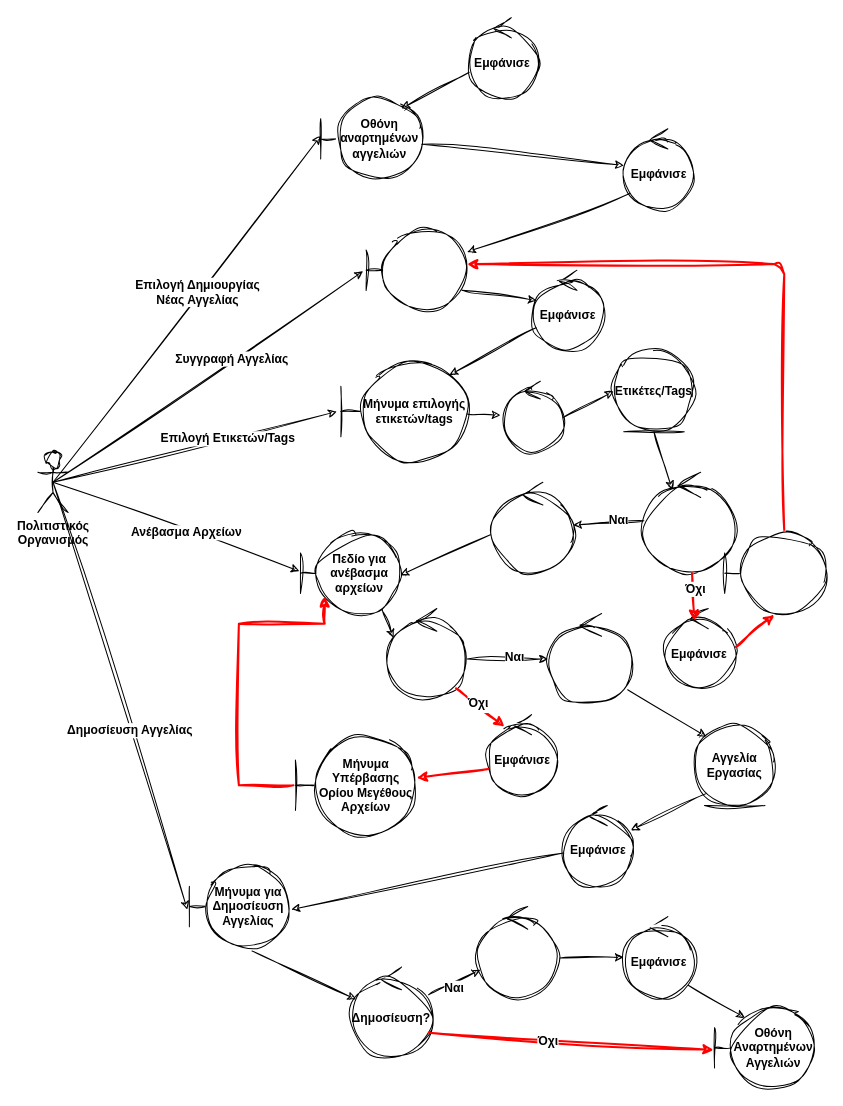
This 843x1106 diagram has some shape labels left out. The shapes that lost their labels are listed below. From the top down, each one's box as (x1, y1, x2, y2) in pixels, then its label:
(365, 229, 467, 311): Οθόνη συμπλήρωσης στοιχείων αγγελίας
(501, 380, 563, 452): Εφάρμοσε
(491, 481, 573, 573): Ενεργοποίησε
(643, 471, 735, 573): Συμπλήρωση απαιτούμενων στοιχείων?
(724, 532, 826, 614): Μήνυμα Αποτυχίας, Υπογράμμιση Ελλείψεων
(385, 608, 467, 699): Μέγεθος αρχείων εντός ορίων?
(547, 613, 634, 704): Δημιούργησε
(476, 905, 558, 997): Ανάρτηση Αγγελίας
